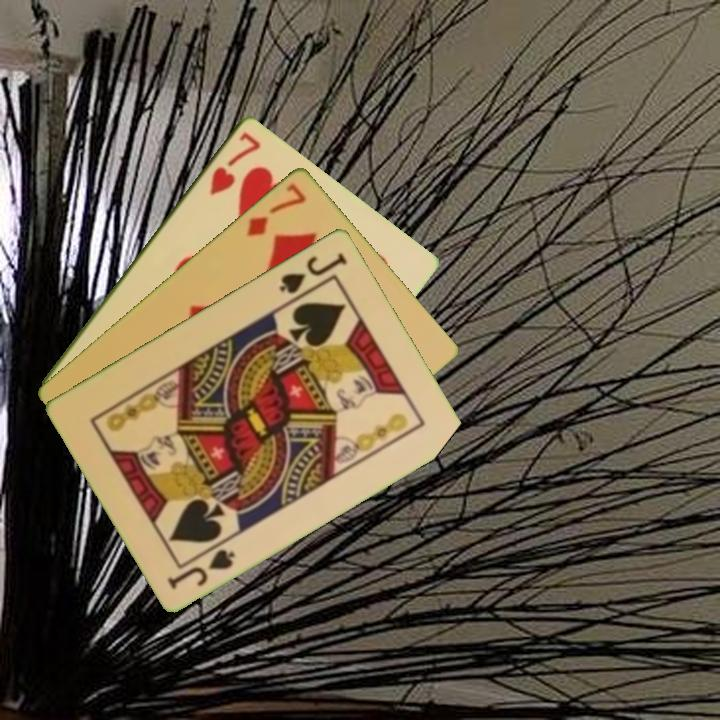7d: (243, 179, 309, 239)
7h: (205, 127, 264, 198)
Js: (275, 248, 351, 297), (164, 544, 239, 591)
